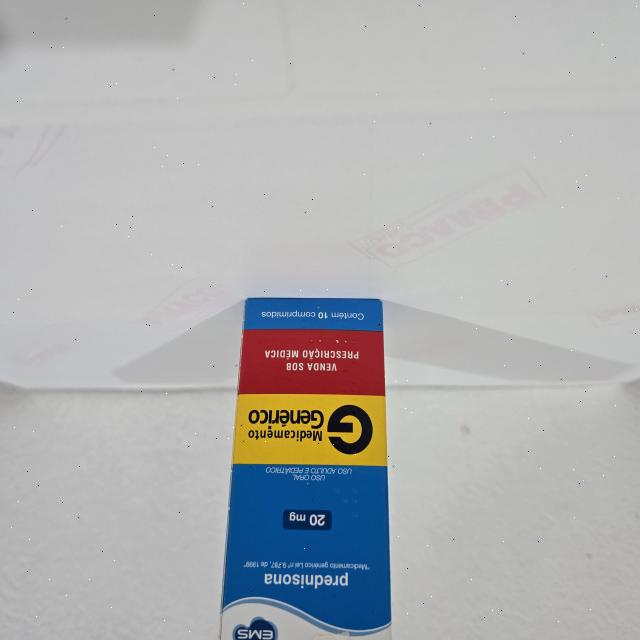prednisona: (216, 294, 399, 640)
